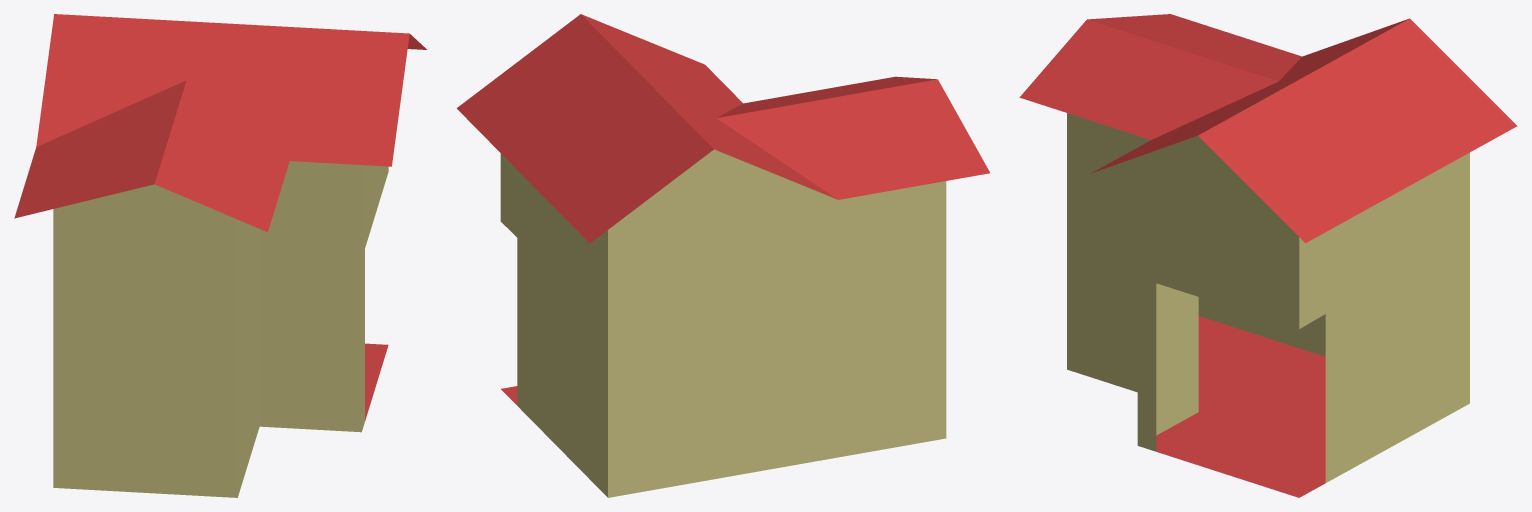
3 views of the same model, side by side, from view 1: azimuth 30°, elevation 25°; view 2: azimuth 150°, elevation 25°; view 3: azimuth 270°, elevation 25° (orthographic). The views are drawn at different scales.
Visible parts, largest first — view 1: group_10, group_3, group_5, group_7, group_4, group_9, group_6; view 2: group_5, group_3, group_10, group_7, group_4, group_9; view 3: group_5, group_3, group_7, group_10, group_6, group_4, group_11, group_9.
Part boxes in pixels (x1,y1,x2,y2): group_10: [53, 184, 255, 497]; group_3: [36, 14, 426, 166]; group_5: [255, 161, 388, 439]; group_7: [14, 80, 289, 232]; group_4: [37, 14, 425, 166]; group_9: [24, 162, 289, 231]; group_6: [365, 343, 388, 420]; group_5: [500, 149, 825, 497]; group_3: [456, 14, 837, 243]; group_10: [825, 181, 946, 459]; group_7: [716, 76, 989, 199]; group_4: [461, 16, 834, 242]; group_9: [781, 77, 981, 167]; group_5: [1137, 135, 1469, 482]; group_3: [1091, 18, 1517, 242]; group_7: [1019, 14, 1301, 139]; group_10: [1067, 113, 1281, 392]; group_6: [1156, 342, 1325, 497]; group_4: [1097, 20, 1514, 238]; group_11: [1198, 316, 1281, 387]; group_9: [1022, 16, 1174, 139].
Size of the model in its own units: 15.99 by 14.68 by 11.3.
